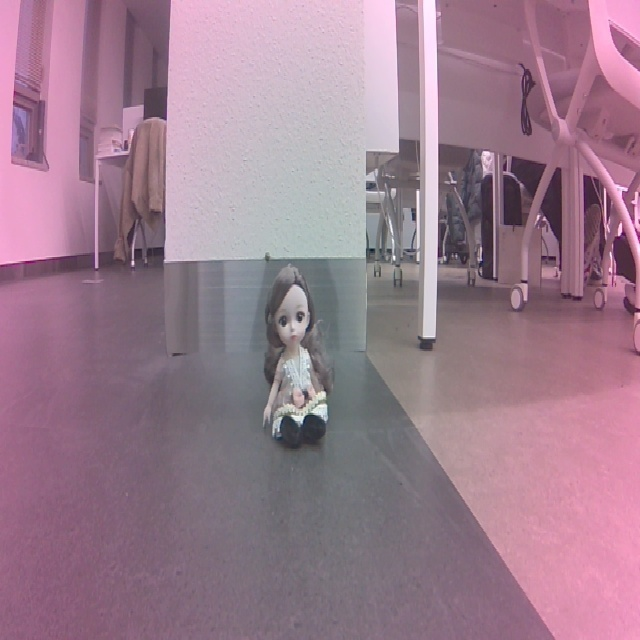장애물: (249, 260, 344, 455)
